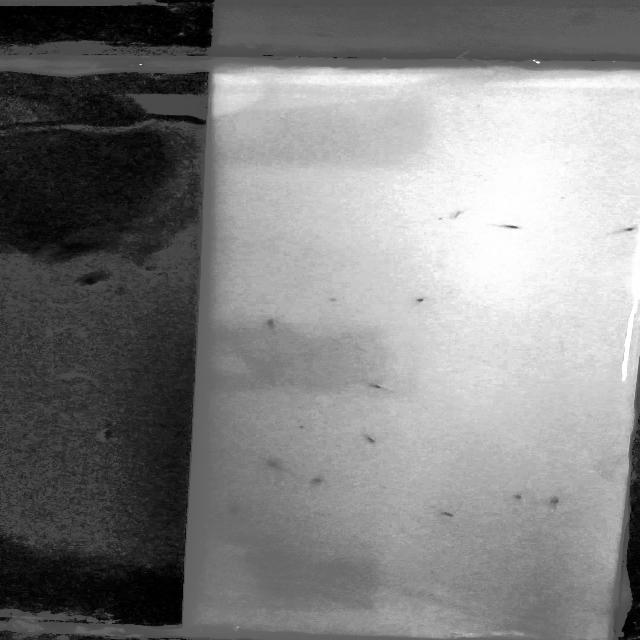shrimp: (349, 434, 396, 451), (361, 377, 394, 399), (250, 313, 284, 333), (250, 456, 291, 472), (488, 219, 524, 232), (546, 496, 575, 510), (504, 489, 528, 505), (612, 221, 640, 234), (224, 504, 250, 518), (436, 507, 458, 523), (406, 294, 429, 308), (308, 474, 330, 488)
